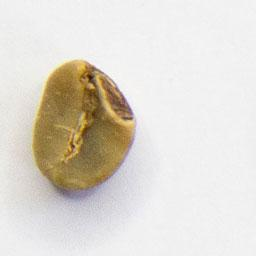defect: (29, 57, 139, 193)
